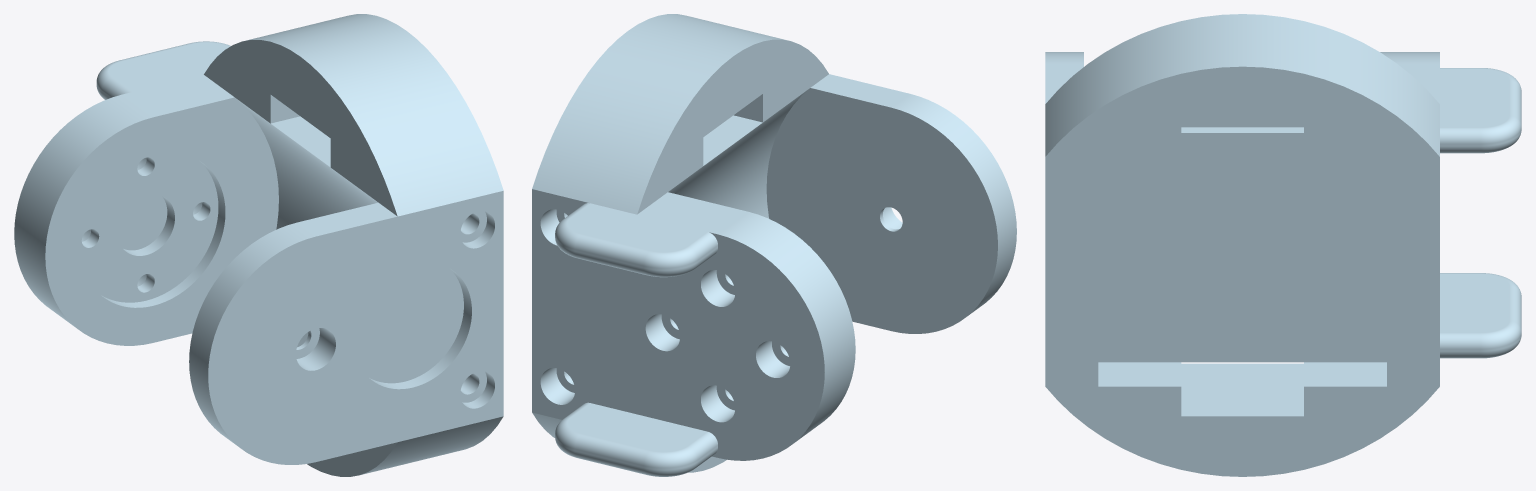
File: _Mx9xu8nwoZ1blNc64.gltf
3 views of the same model, side by side, from view 1: azimuth 30°, elevation 25°; view 2: azimuth 150°, elevation 25°; view 3: azimuth 270°, elevation 25° (orthographic). The views are drawn at different scales.
Visible parts, largest first — view 1: SnakeBody; view 2: SnakeBody; view 3: SnakeBody.
Part boxes in pixels (x1,y1,x2,y2): SnakeBody: (14,14,503,476); SnakeBody: (532,14,1016,476); SnakeBody: (1045,14,1521,476).
Bounding box in the file's own units: 0.0425 × 0.0554 × 0.0583.
